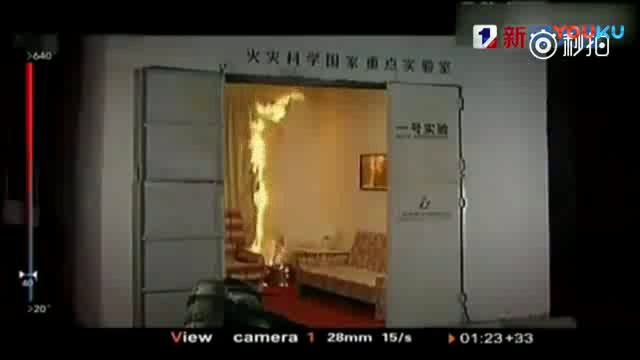fire: (252, 90, 290, 269)
